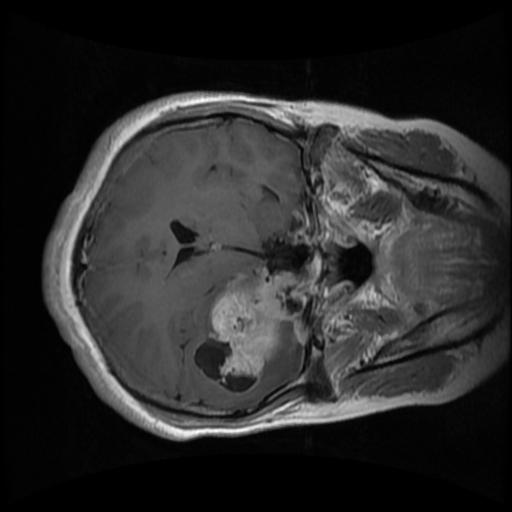meningioma: (191, 270, 296, 394)
